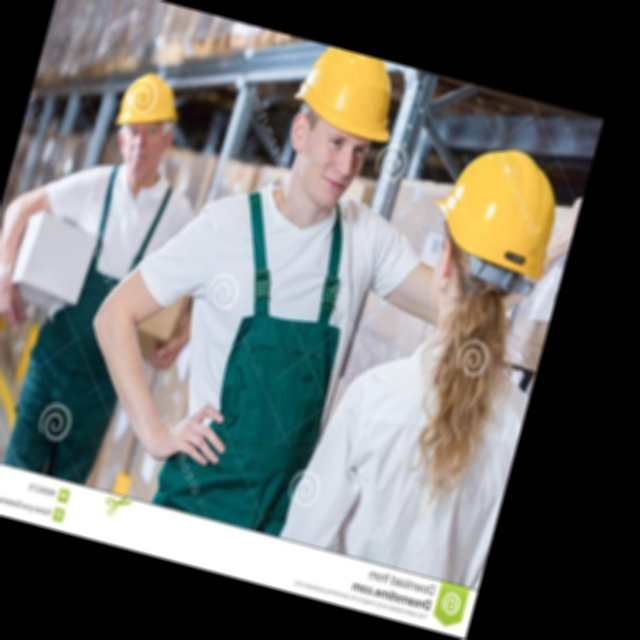Con_Casco: (416, 137, 573, 347), (268, 40, 409, 215)
Sin_Chaleco: (141, 168, 388, 526), (285, 317, 537, 582)
